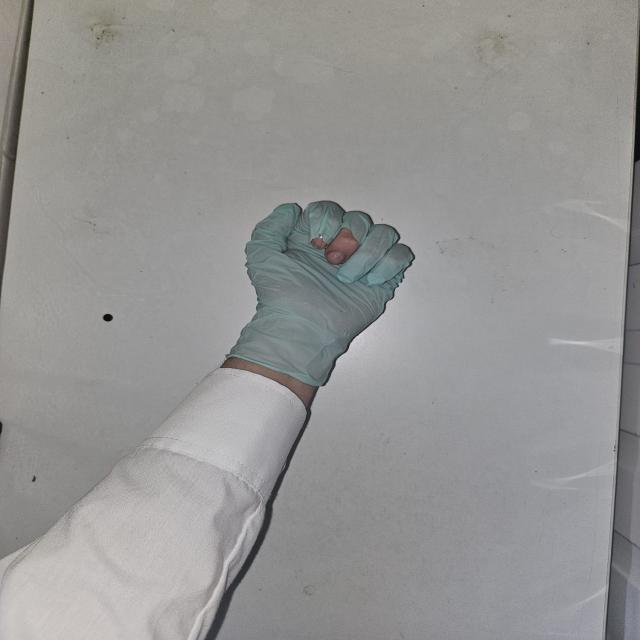gloves_damaged: (216, 196, 420, 395)
